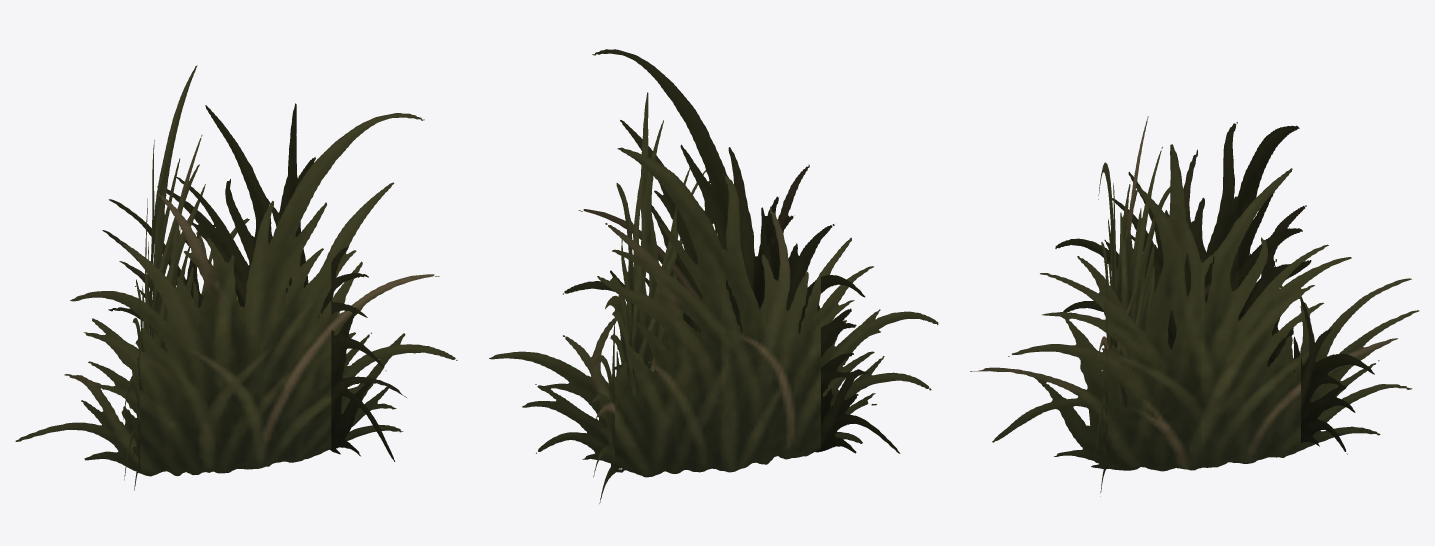
The picture shows the model from 3 angles, left to right: view 1: azimuth 30°, elevation 25°; view 2: azimuth 150°, elevation 25°; view 3: azimuth 270°, elevation 25°; orthographic projection.
Parts seen in each view (by area): view 1: Bent meadow card; view 2: Bent meadow card; view 3: Bent meadow card.
Part boxes in pixels (x1,y1,x2,y2): Bent meadow card: (15, 65, 457, 490); Bent meadow card: (489, 49, 938, 503); Bent meadow card: (970, 116, 1419, 496).
Size of the model in its own units: 2.04 by 1.65 by 2.06.
1 material, 1 textured.
